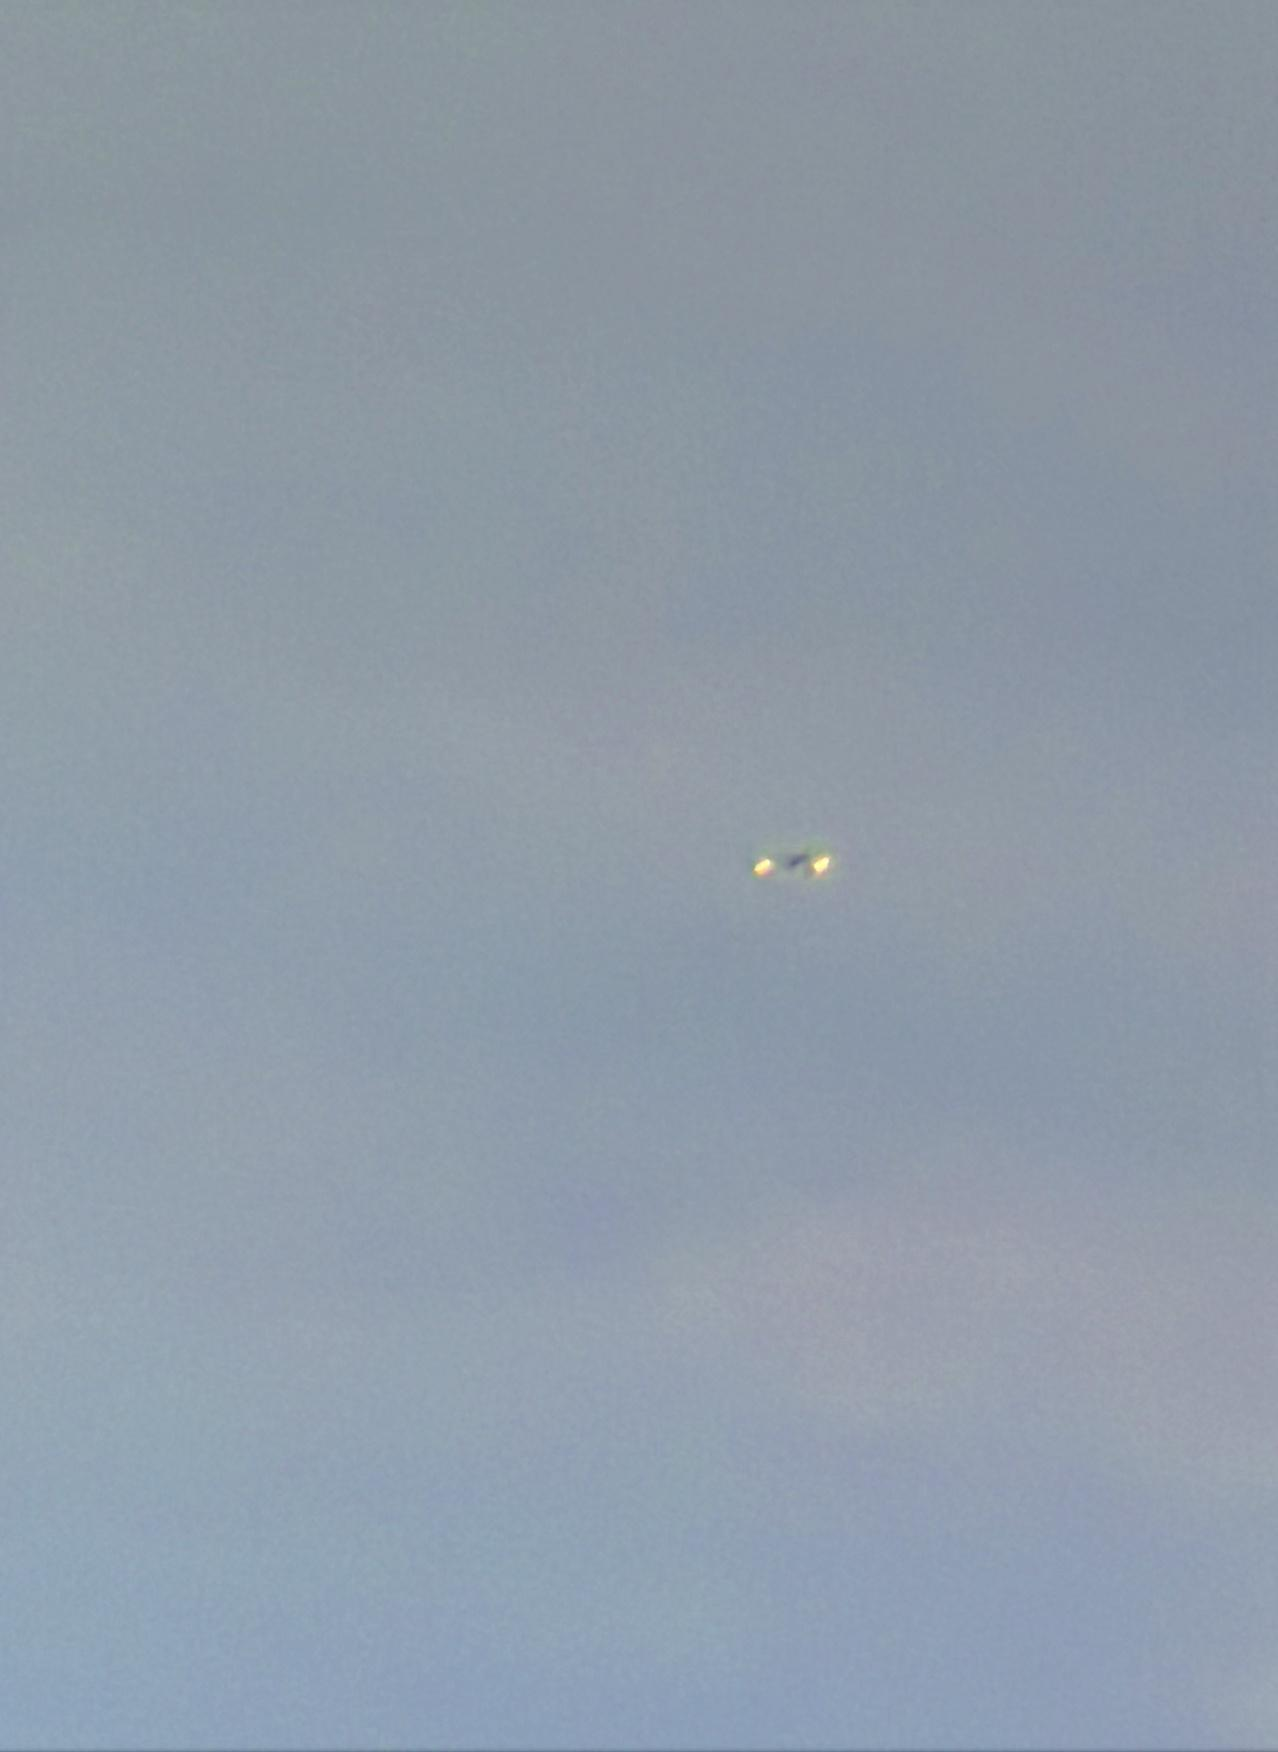Plane: (721, 809, 865, 921)
